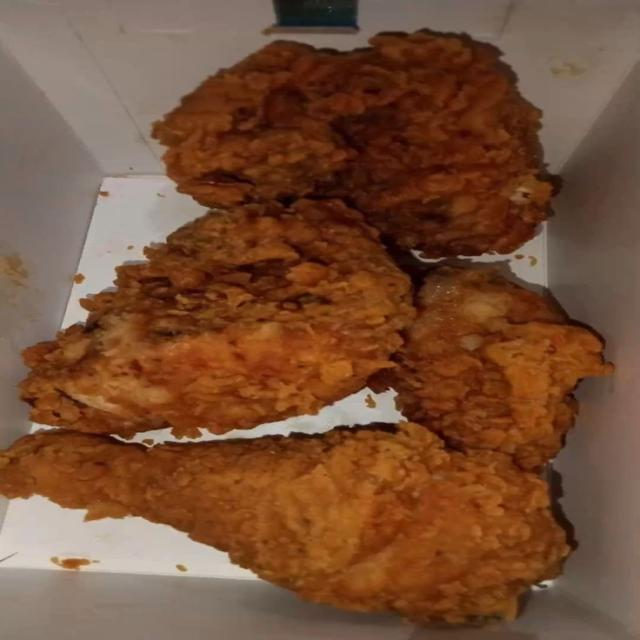Chicken -Fried Chicken-: (5, 426, 588, 640), (139, 32, 572, 232), (0, 204, 396, 409), (396, 240, 620, 456)
